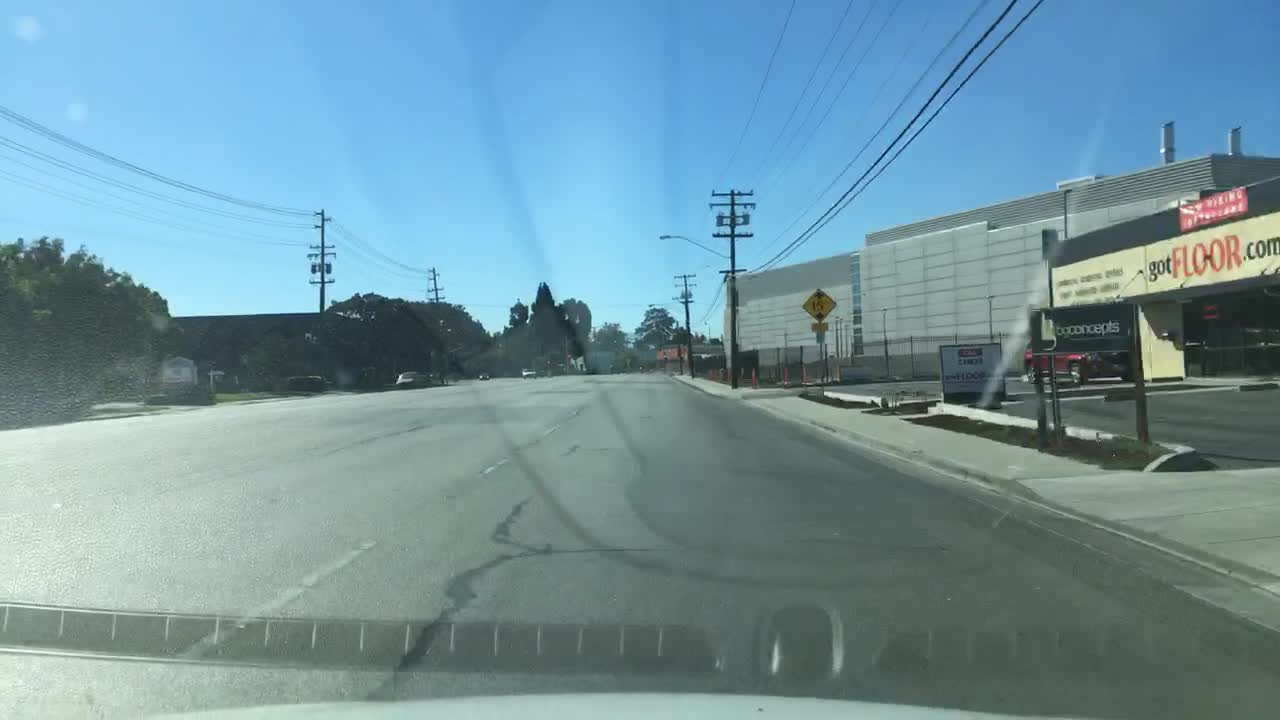car: (1023, 332, 1139, 386), (395, 370, 446, 387), (522, 365, 537, 379), (478, 370, 491, 380)
traffic sign: (801, 283, 838, 317), (811, 323, 828, 342)
